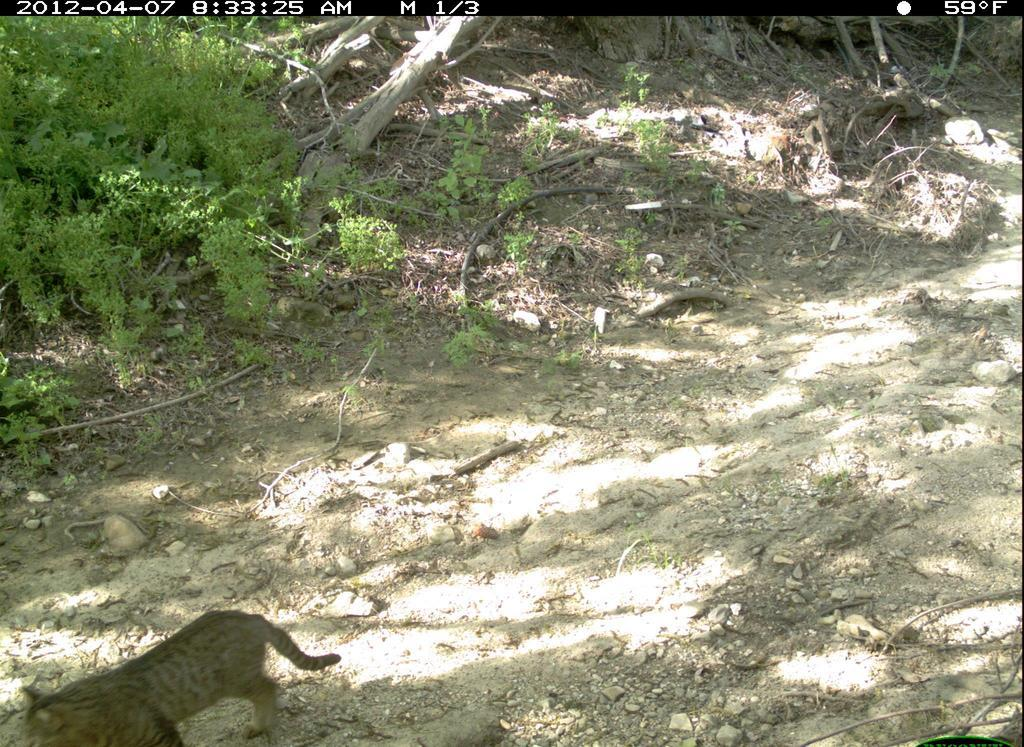cat: (12, 598, 353, 747)
